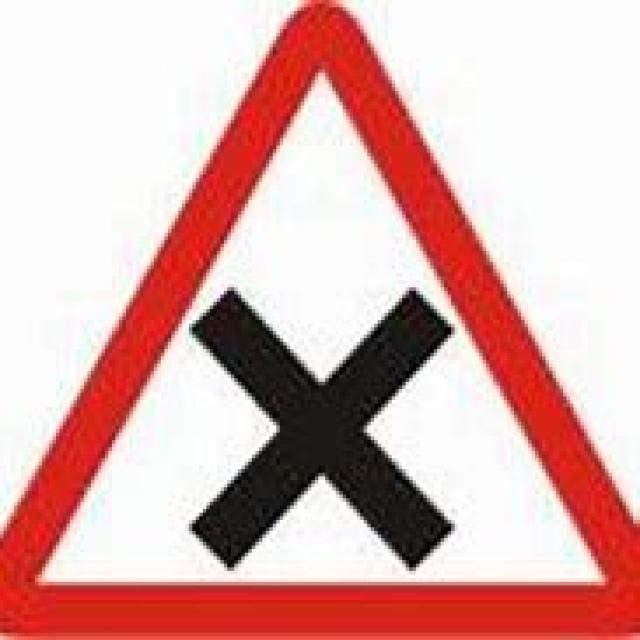CROSS_ROAD: (0, 0, 636, 636)
